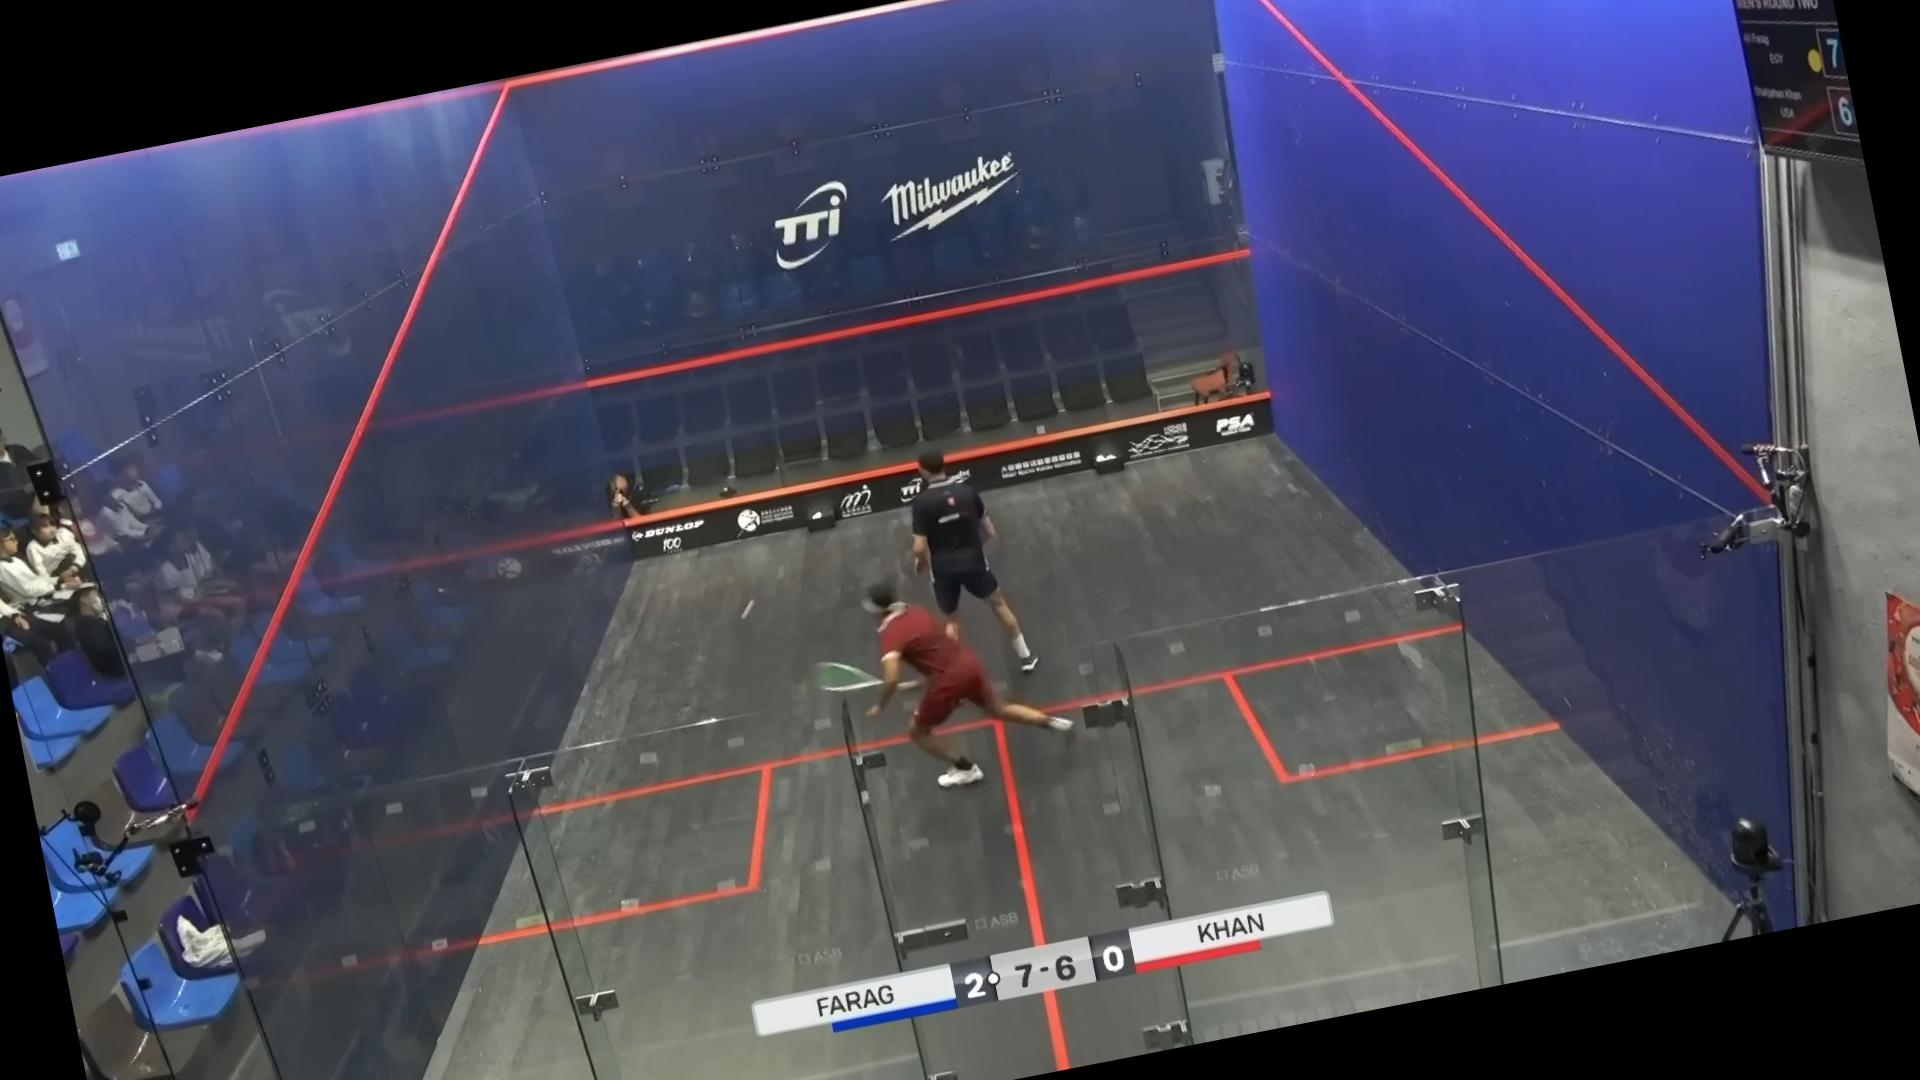Racket: (807, 641, 924, 709)
